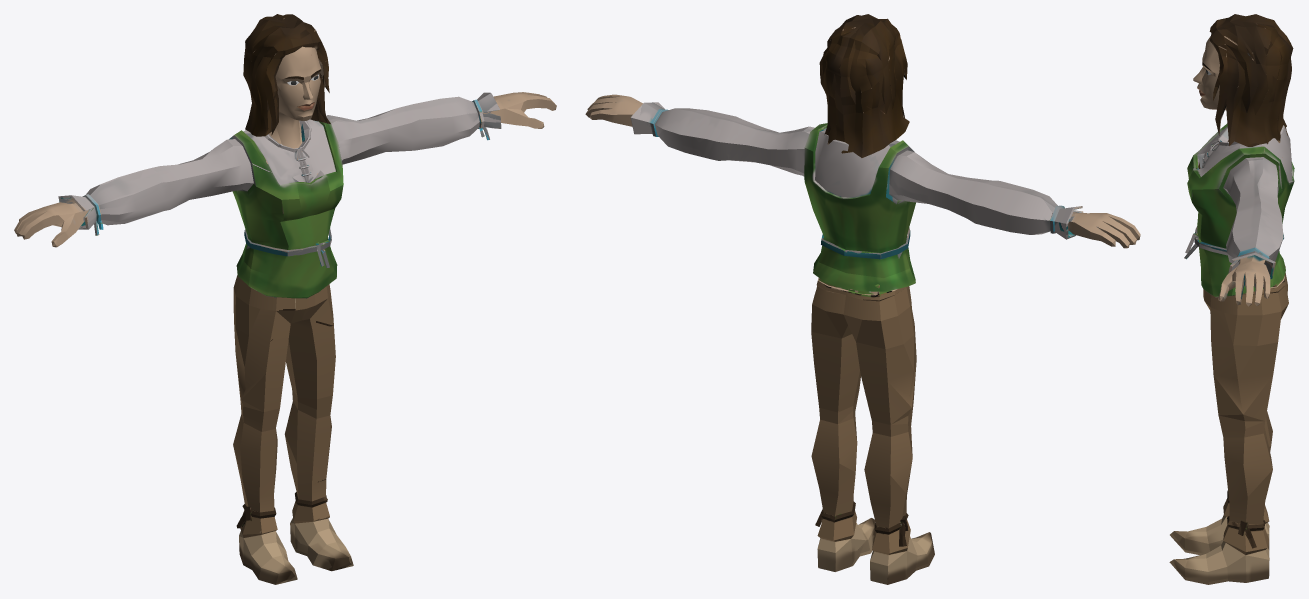
The model's file is Frau3.fbx.
The picture shows the model from 3 angles, left to right: view 1: azimuth 30°, elevation 25°; view 2: azimuth 150°, elevation 25°; view 3: azimuth 270°, elevation 25°; orthographic projection. The views are drawn at different scales.
Parts seen in each view (by area): view 1: PT_Female_Peasant_01_upper_short, PT_Male_Peasant_01_lower, PT_Female_Naked_head; view 2: PT_Female_Peasant_01_upper_short, PT_Male_Peasant_01_lower, PT_Female_Naked_head; view 3: PT_Male_Peasant_01_lower, PT_Female_Peasant_01_upper_short, PT_Female_Naked_head.
Boxes of the visible parts, x1,y1,x2,y2 form: PT_Female_Peasant_01_upper_short: (14, 92, 556, 298); PT_Male_Peasant_01_lower: (233, 275, 353, 584); PT_Female_Naked_head: (243, 14, 330, 148); PT_Female_Peasant_01_upper_short: (585, 94, 1140, 291); PT_Male_Peasant_01_lower: (811, 278, 934, 584); PT_Female_Naked_head: (819, 14, 909, 157); PT_Male_Peasant_01_lower: (1169, 266, 1288, 584); PT_Female_Peasant_01_upper_short: (1184, 123, 1294, 306); PT_Female_Naked_head: (1193, 14, 1293, 146).
Bounding box in the file's own units: 192 × 184 × 38.3.
3 materials, 3 textured.
